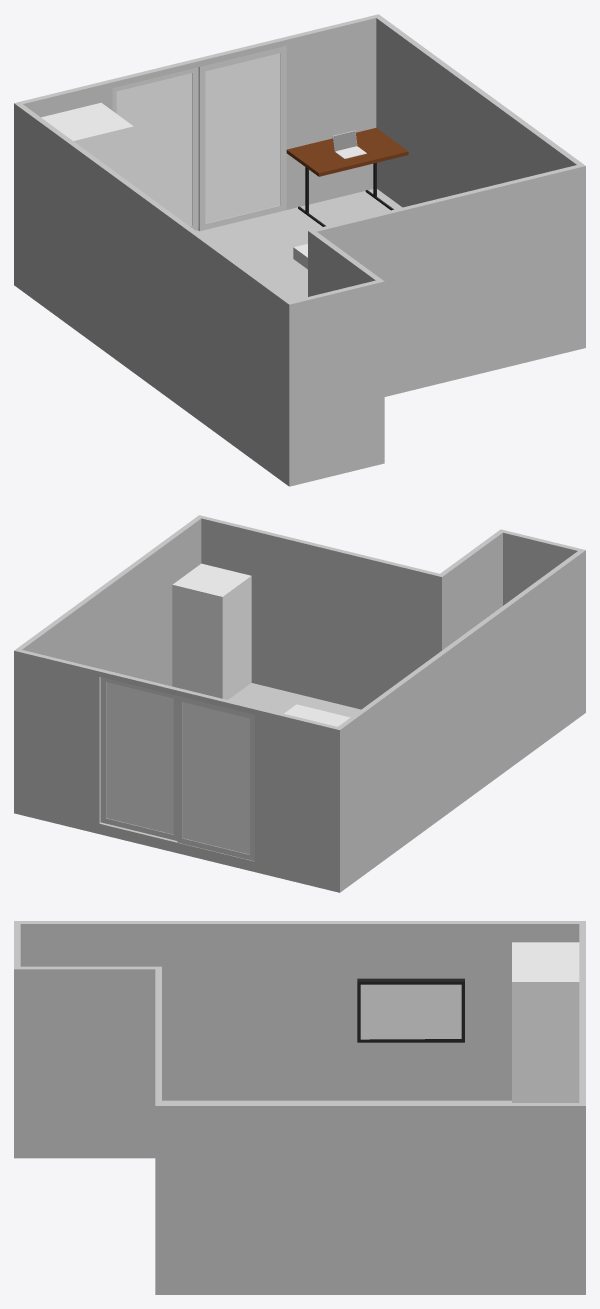
3 views of the same model, one above another, from view 1: azimuth 30°, elevation 25°; view 2: azimuth 150°, elevation 25°; view 3: azimuth 270°, elevation 25° (orthographic). The views are drawn at different scales.
Visible parts, largest first — view 1: room, Cube008, Cube009, wardrobe, Cube008_1, table, Cube009_1; view 2: room, fridge, Cube008, Cube009, Cube009_1, Cube008_1, wardrobe; view 3: room, wardrobe, Cube002, Cube002_1.
Part boxes in pixels (x1,y1,x2,y2): room: [14, 14, 585, 486]; Cube008: [205, 53, 280, 223]; Cube009: [116, 73, 191, 225]; wardrobe: [41, 102, 133, 184]; Cube008_1: [198, 46, 286, 231]; table: [286, 128, 408, 176]; Cube009_1: [112, 67, 197, 230]; room: [14, 515, 585, 892]; fridge: [172, 563, 251, 699]; Cube008: [106, 682, 173, 834]; Cube009: [182, 702, 249, 854]; Cube009_1: [177, 696, 254, 861]; Cube008_1: [101, 677, 177, 840]; wardrobe: [284, 704, 350, 726]; room: [14, 921, 585, 1294]; wardrobe: [512, 942, 579, 1102]; Cube002: [360, 984, 461, 1039]; Cube002_1: [357, 978, 464, 1042].
Size of the model in its own units: 6.5 by 3.1 by 8.5.
